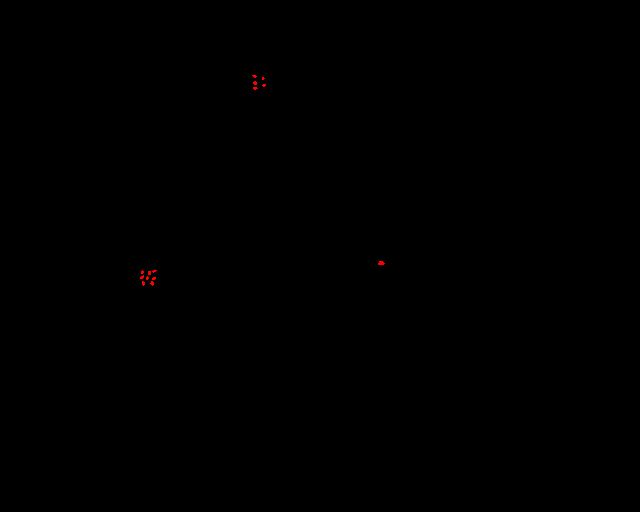Target: (378, 261, 385, 265), (150, 281, 154, 286), (253, 81, 257, 85), (140, 275, 144, 279), (252, 75, 257, 78), (253, 87, 258, 90), (152, 270, 157, 273), (142, 281, 145, 286), (262, 84, 266, 87), (141, 270, 144, 274), (148, 271, 151, 275), (146, 276, 149, 280), (152, 277, 156, 280), (262, 77, 265, 80)
